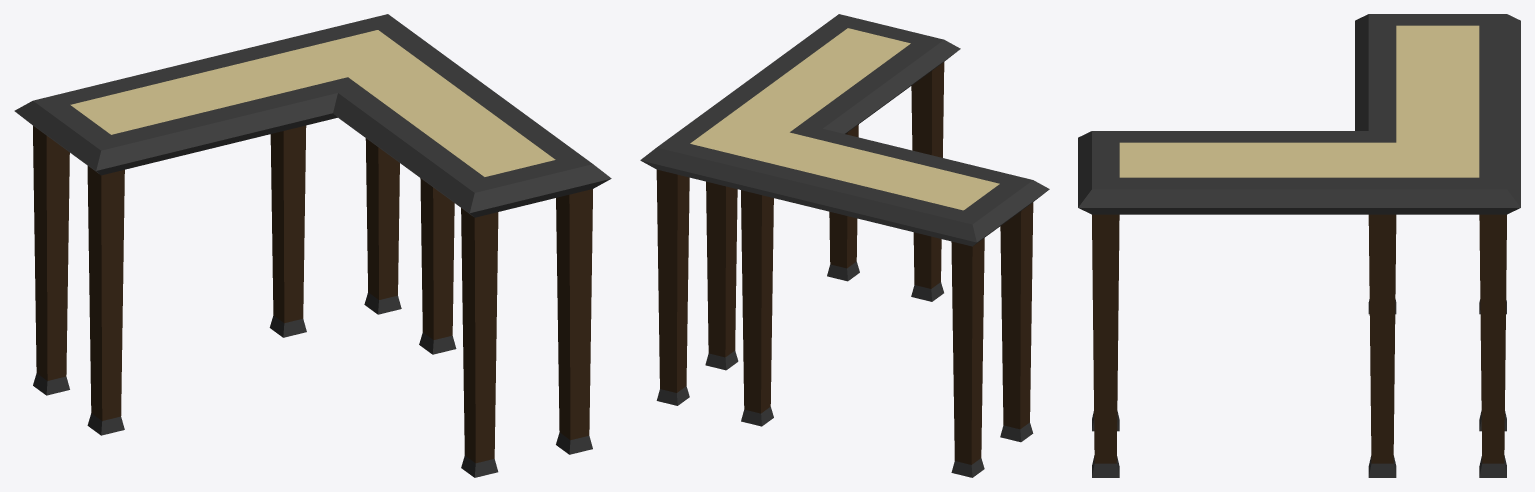
Rendered from Table.fbx.
3 views of the same model, side by side, from view 1: azimuth 30°, elevation 25°; view 2: azimuth 150°, elevation 25°; view 3: azimuth 270°, elevation 25° (orthographic). The views are drawn at different scales.
Visible parts, largest first — view 1: Table; view 2: Table; view 3: Table.
Boxes of the visible parts, bbox=[...] form: Table: bbox=[14, 14, 611, 477]; Table: bbox=[640, 14, 1049, 477]; Table: bbox=[1078, 14, 1520, 477].
Bounding box in the file's own units: 3200 × 2300 × 3200.
